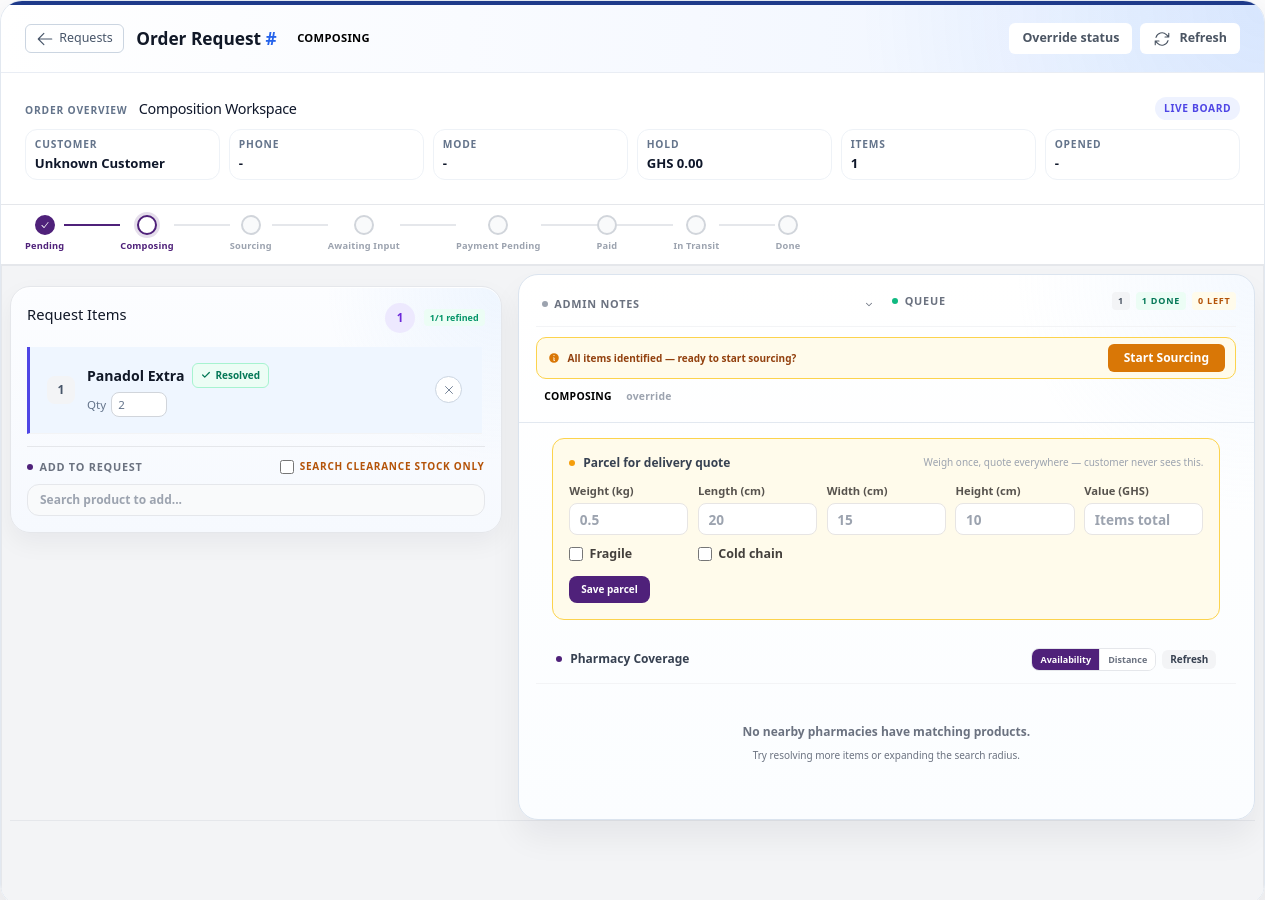
it: compose: adding an item › adds the typed item to the request and says so
This screenshot has width=1280, height=900.
Type "Amoxicillin" into the field with placeholder "Search product to add...". click: {"x": 256, "y": 500}
box: [27, 484, 485, 516]
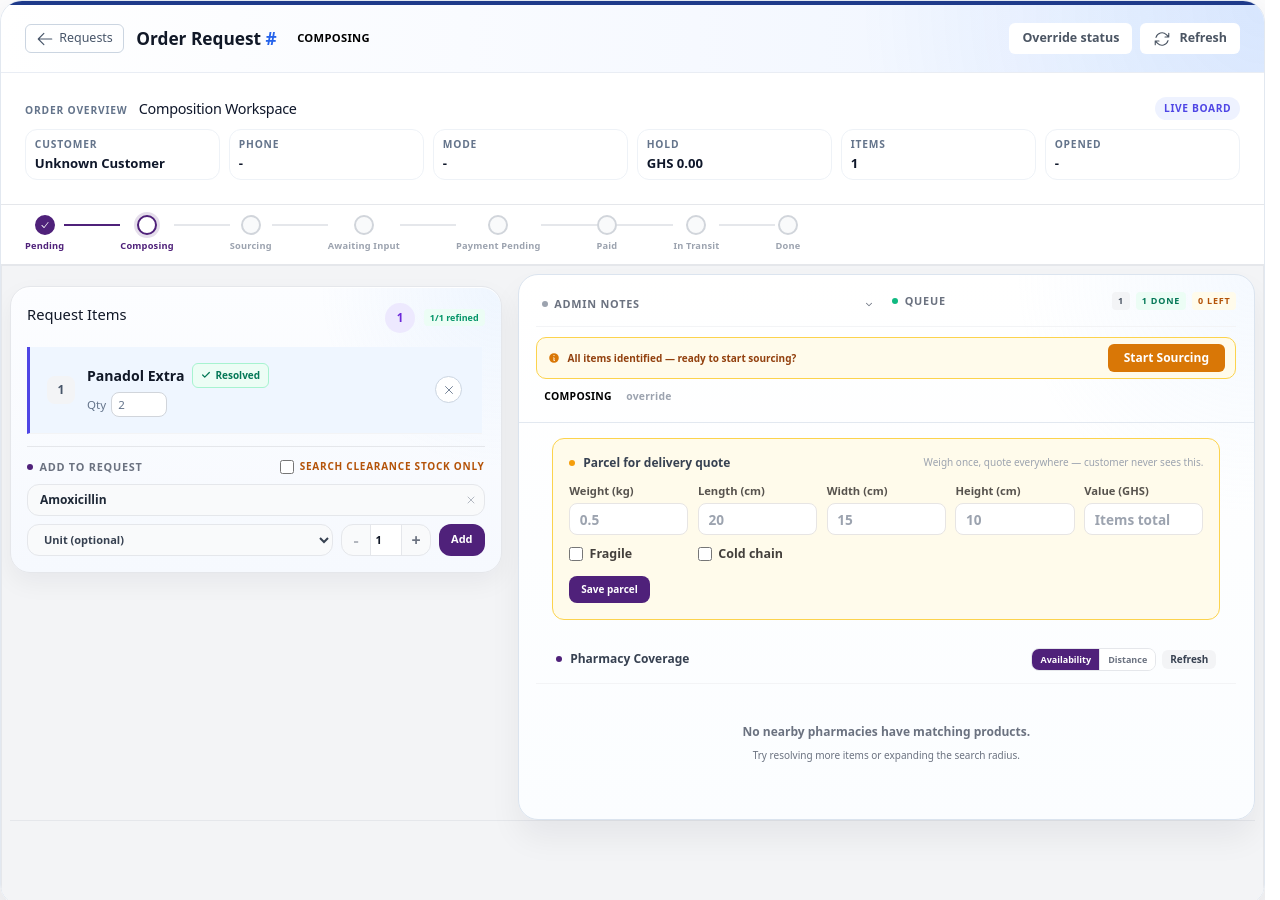
Click the button "Add". click: {"x": 462, "y": 540}
box: [439, 524, 485, 556]
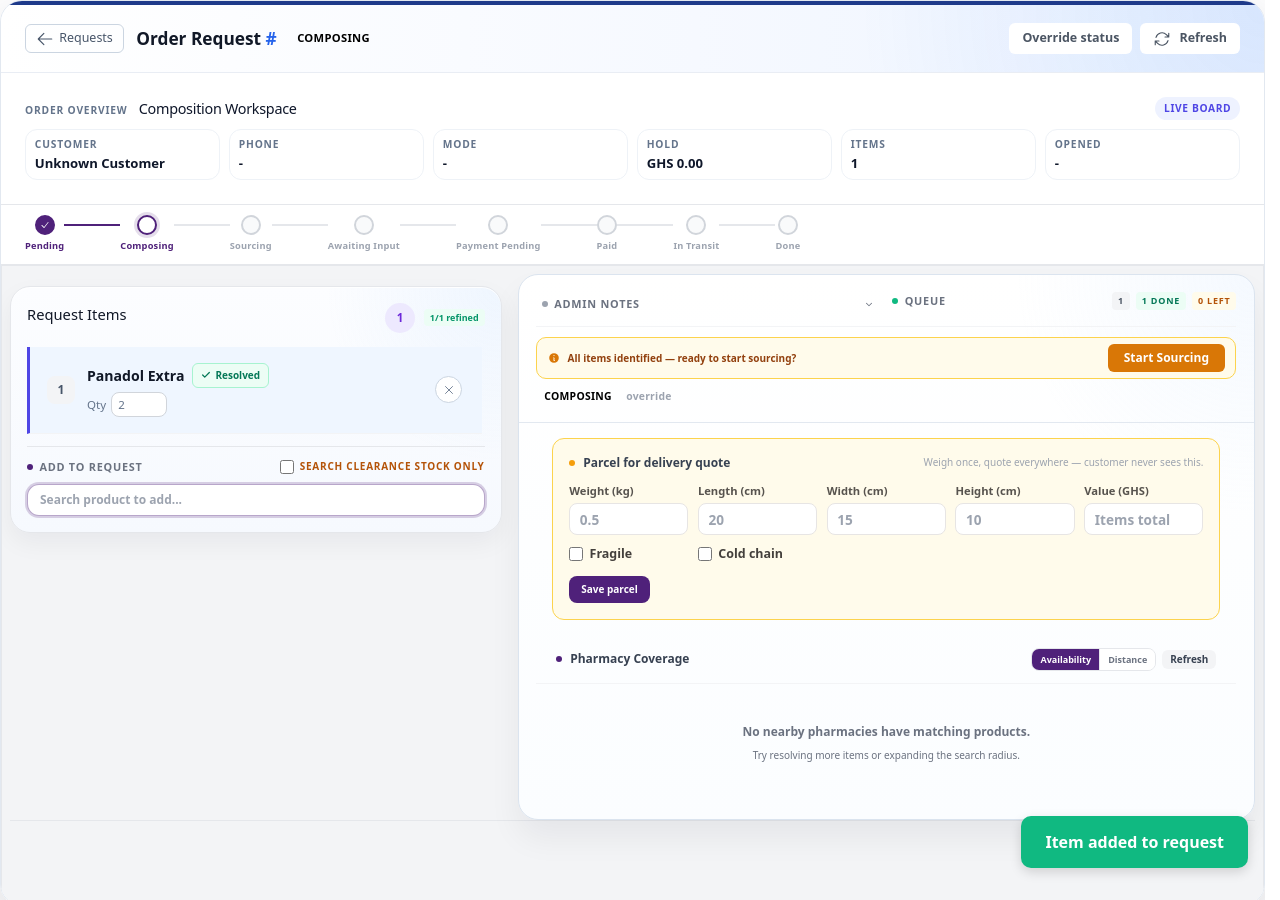
Now the text "Item added to request" is shown, box [1021, 816, 1248, 868]
Now the field with placeholder "Search product to add..." is empty, box [27, 484, 485, 516]
